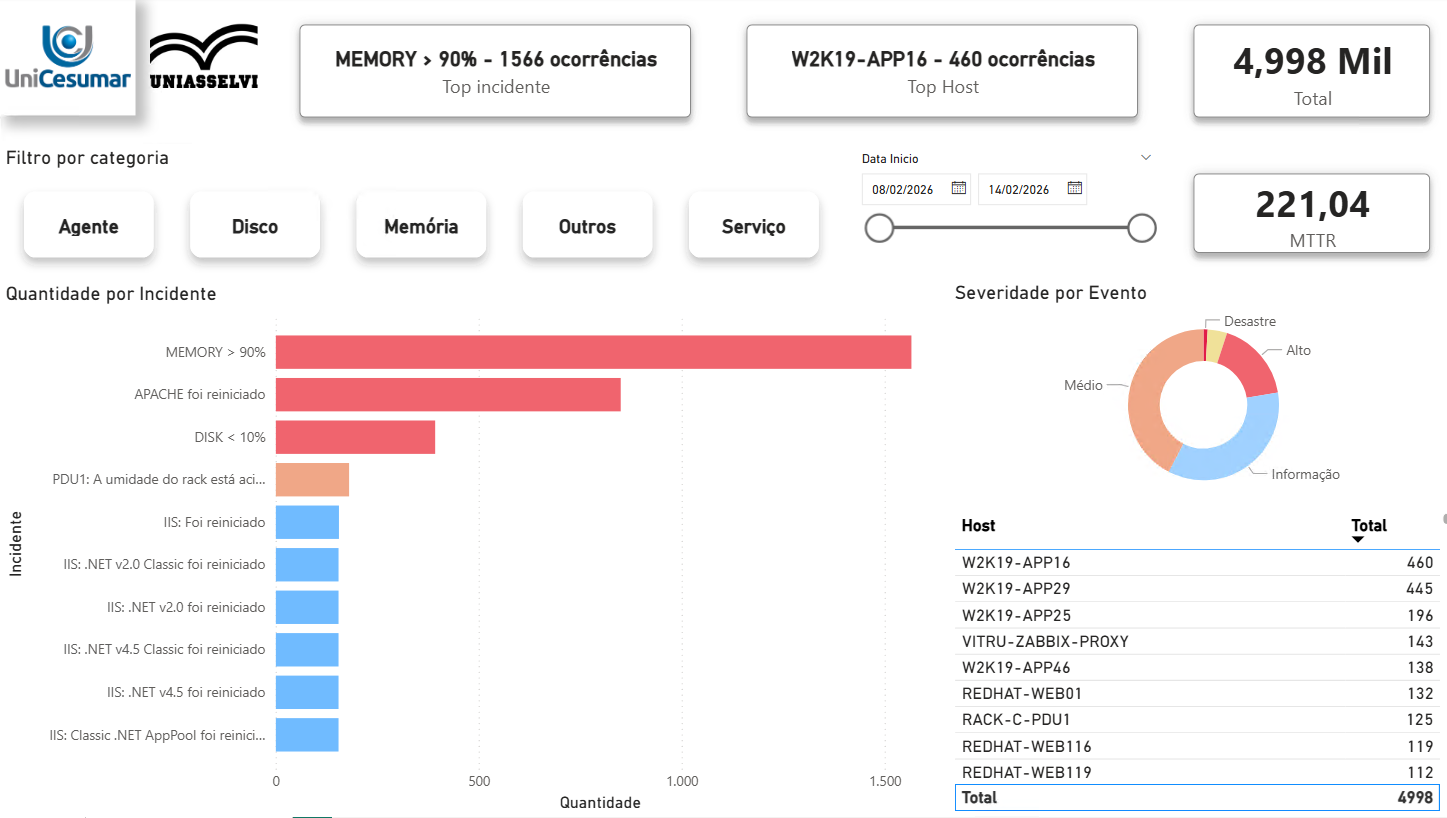

The dashboard page shown, as its layout file describes it:
{"tool":"powerbi","page":{"name":"Zabbix Unicesumar (Operacional)","canvas":[1280,720],"ordinal":0},"visuals":[{"type":"clusteredBarChart","fields":{"Category":["Zabbix Unicesumar 08/02 -> 14/02.Evento Limpo"],"Y":["CountNonNull(Zabbix Unicesumar 08/02 -> 14/02.Evento Limpo)"]},"box":[0,250.2,832.4,469.8],"z":0},{"type":"tableEx","fields":{"Values":["Zabbix Unicesumar 08/02 -> 14/02.Host","Zabbix Unicesumar 08/02 -> 14/02.Evento"]},"box":[832.4,447.8,447.8,272.2],"z":1000},{"type":"cardVisual","fields":{"Data":["CountNonNull(Zabbix Unicesumar 08/02 -> 14/02.Evento)"]},"box":[1023.8,0,256.4,130.8],"z":2000},{"type":"advancedSlicerVisual","fields":{"Values":["Zabbix Unicesumar 08/02 -> 14/02.Categoria"]},"box":[0,130.8,743.7,119.4],"z":4000},{"type":"donutChart","fields":{"Category":["Zabbix Unicesumar 08/02 -> 14/02.Severidade"],"Y":["CountNonNull(Zabbix Unicesumar 08/02 -> 14/02.Evento Limpo)"]},"box":[833.3,249.4,446.9,198.4],"z":5000},{"type":"cardVisual","fields":{"Data":["Zabbix Unicesumar 08/02 -> 14/02.Top_Evento_Vertical"]},"box":[238.8,0,392.5,130.8],"z":5001},{"type":"cardVisual","fields":{"Data":["Avg(Zabbix Unicesumar 08/02 -> 14/02.Duracao_Minutos)"]},"box":[1023.8,130.8,256.4,118.5],"z":5003},{"type":"cardVisual","fields":{"Data":["Zabbix Unicesumar 08/02 -> 14/02.Top_Host_Vertical"]},"box":[631.3,0,392.5,130.8],"z":5004},{"type":"slicer","fields":{"Values":["Zabbix Unicesumar 08/02 -> 14/02.Data Inicio"]},"box":[743.7,130.8,280.1,119.4],"z":5005},{"type":"image","box":[119.4,0,119.4,104.5],"z":5006},{"type":"image","box":[0,0,119.4,104.5],"z":5007},{"type":"actionButton","box":[119.4,0,119.4,111.5],"z":5008}]}

Visuals, with their boxes in screenshot pixels (x1, y1, x2, y2), scaled from the page's 1280x720 canvas onto the 1447x818 screenshot:
clusteredBarChart - Zabbix Unicesumar 08/02 -> 14/02.Evento Limpo x CountNonNull(Zabbix Unicesumar 08/02 -> 14/02.Evento Limpo): (0, 284, 941, 817)
tableEx - Zabbix Unicesumar 08/02 -> 14/02.Host x Zabbix Unicesumar 08/02 -> 14/02.Evento: (941, 509, 1446, 817)
cardVisual - CountNonNull(Zabbix Unicesumar 08/02 -> 14/02.Evento): (1157, 0, 1446, 149)
advancedSlicerVisual - Zabbix Unicesumar 08/02 -> 14/02.Categoria: (0, 149, 841, 284)
donutChart - Zabbix Unicesumar 08/02 -> 14/02.Severidade x CountNonNull(Zabbix Unicesumar 08/02 -> 14/02.Evento Limpo): (942, 283, 1446, 509)
cardVisual - Zabbix Unicesumar 08/02 -> 14/02.Top_Evento_Vertical: (270, 0, 714, 149)
cardVisual - Avg(Zabbix Unicesumar 08/02 -> 14/02.Duracao_Minutos): (1157, 149, 1446, 283)
cardVisual - Zabbix Unicesumar 08/02 -> 14/02.Top_Host_Vertical: (714, 0, 1157, 149)
slicer - Zabbix Unicesumar 08/02 -> 14/02.Data Inicio: (841, 149, 1157, 284)
image: (135, 0, 270, 119)
image: (0, 0, 135, 119)
actionButton: (135, 0, 270, 127)
